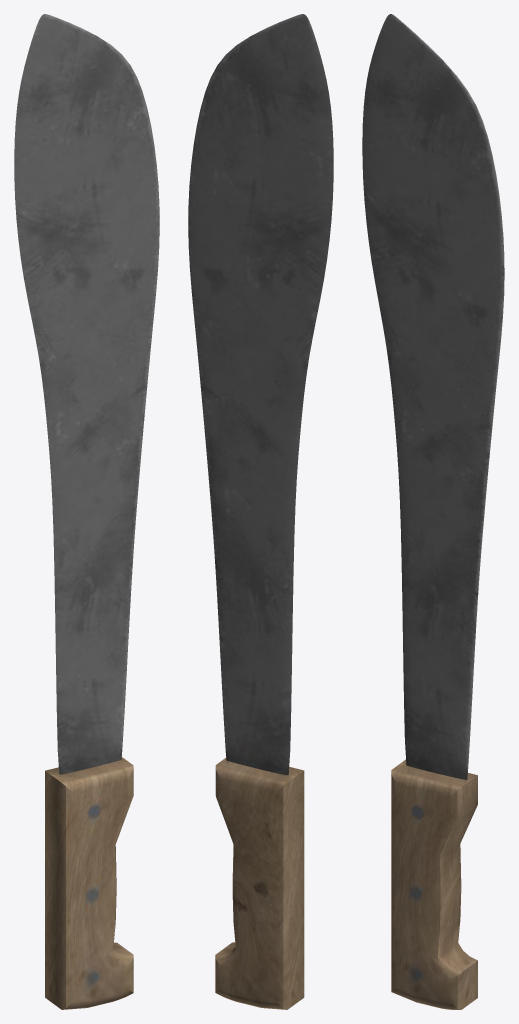
The model's file is mp_machete.glb.
3 renders of one model, left to right at view 1: azimuth 30°, elevation 25°; view 2: azimuth 150°, elevation 25°; view 3: azimuth 330°, elevation 25°, orthographic. The views are drawn at different scales.
Visible parts, largest first — view 1: Machete; view 2: Machete; view 3: Machete.
Boxes of the visible parts, x1=… form: Machete: x1=14, y1=14, x2=159, y2=1009; Machete: x1=188, y1=14, x2=333, y2=1009; Machete: x1=362, y1=14, x2=504, y2=1009.
Bounding box in the file's own units: 0.1039 × 0.68 × 0.0274.
1 material, 1 textured.
